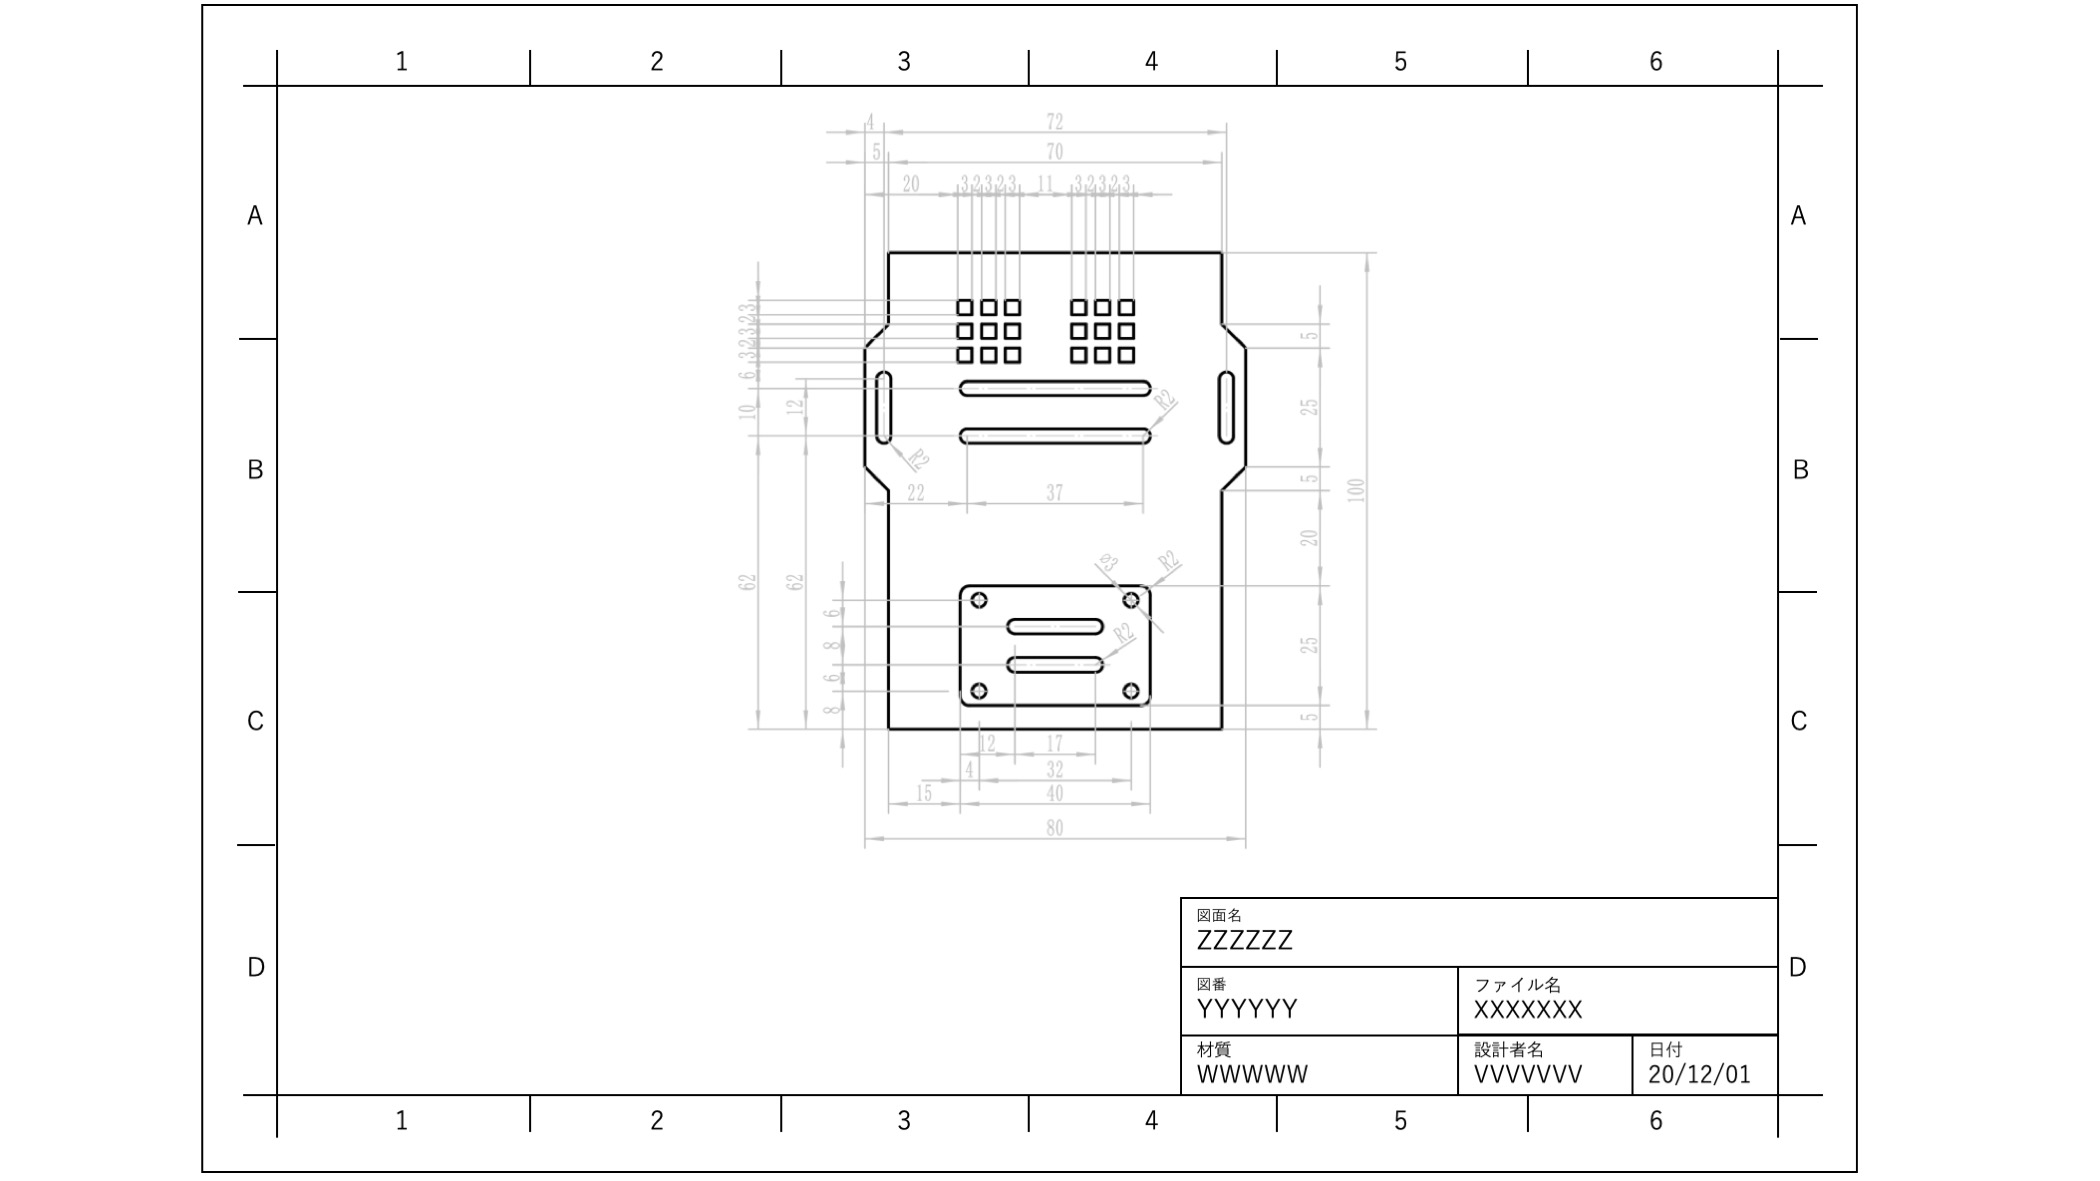circle: (1118, 676, 1150, 708), (961, 678, 992, 702), (965, 583, 989, 607), (1118, 593, 1144, 611)
rectangle: (952, 293, 975, 319), (976, 296, 1000, 317), (1090, 345, 1112, 366), (1002, 345, 1023, 368), (1115, 320, 1138, 340), (1001, 320, 1023, 340), (1113, 296, 1135, 316), (1093, 294, 1111, 319), (1002, 297, 1023, 317), (1070, 297, 1090, 317), (1067, 345, 1087, 365), (1116, 345, 1137, 365), (953, 345, 975, 363), (1092, 322, 1113, 340), (979, 322, 1000, 340), (1069, 322, 1089, 340), (955, 322, 974, 340), (979, 345, 997, 365)
round_rectangle: (955, 373, 1155, 401), (953, 424, 1155, 448), (1004, 613, 1108, 637), (1004, 652, 1108, 676), (1212, 361, 1240, 446), (873, 361, 896, 448)
